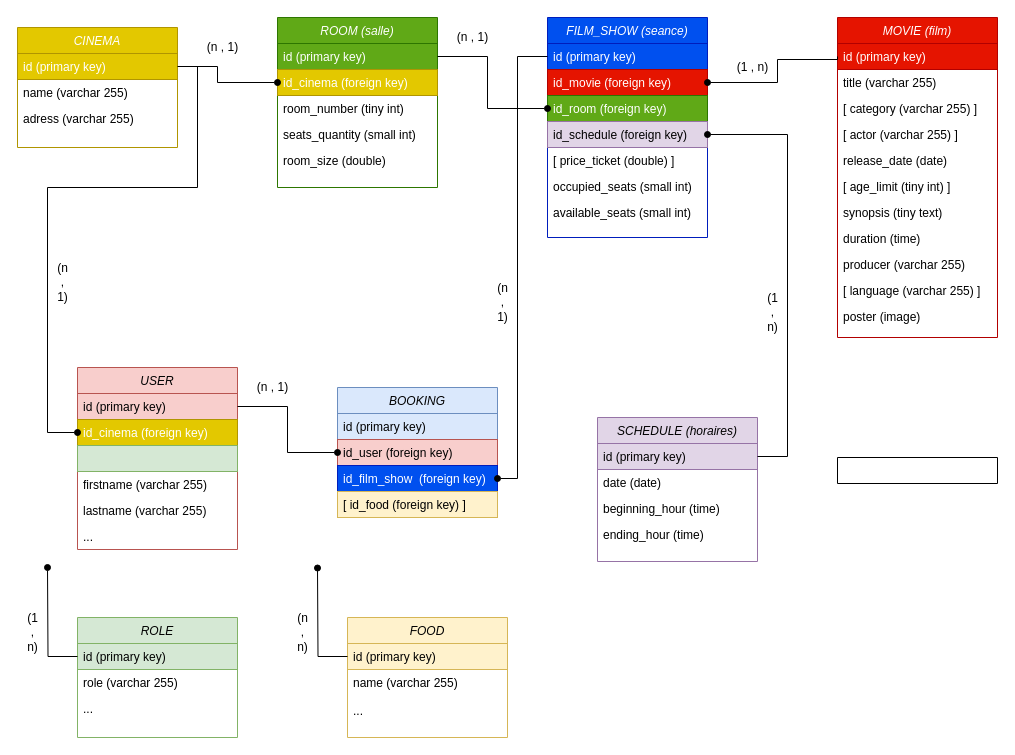
This 1015x755 diagram has some shape labels left out. Each missing label, with the centre of its shape:
[ ] = other table later: point 917,470
[ id_role (foreign key) ]: point 157,458
